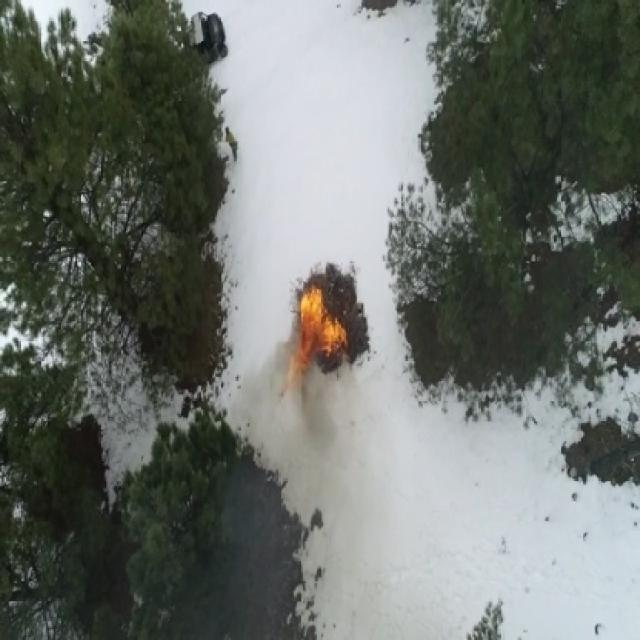Fire: (282, 278, 349, 394)
